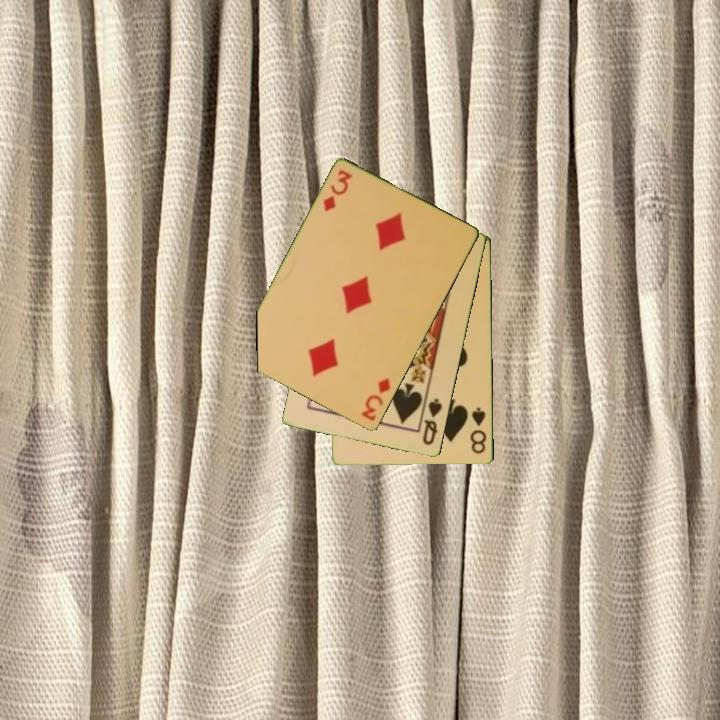3d: (358, 375, 394, 424), (320, 166, 355, 215)
8s: (467, 404, 489, 457)
Qs: (419, 395, 445, 448)
